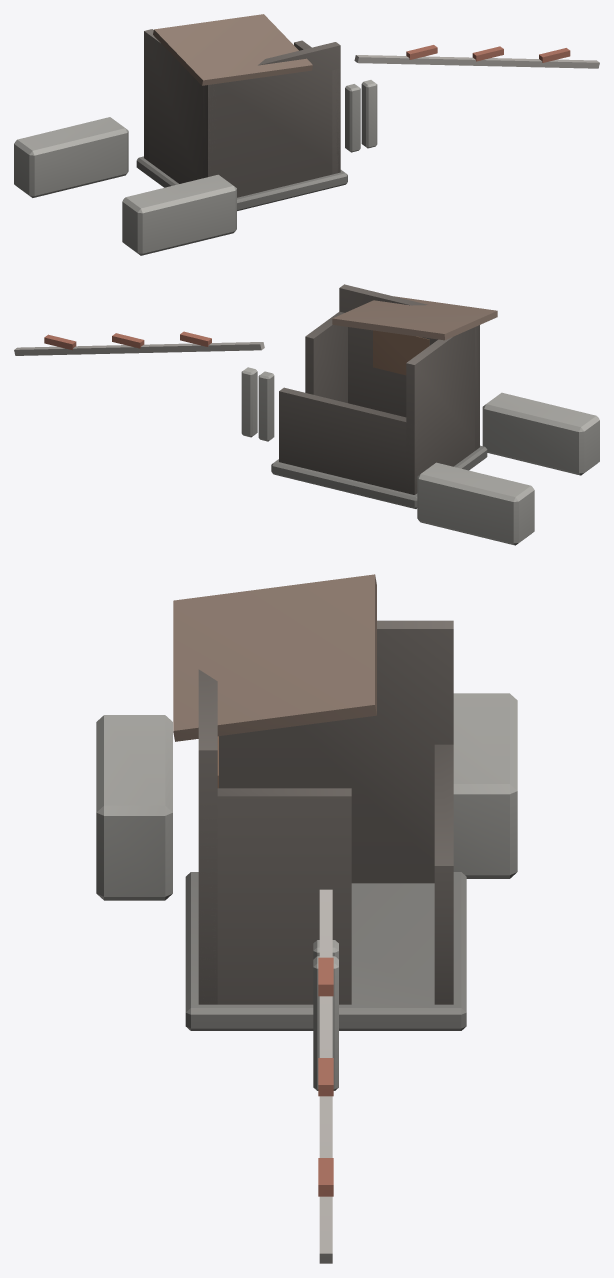
Rendered from mil_checkpoint.glb.
3 renders of one model, top to bottom at view 1: azimuth 30°, elevation 25°; view 2: azimuth 150°, elevation 25°; view 3: azimuth 270°, elevation 25°, orthographic. The views are drawn at different scales.
Visible parts, largest first — view 1: mil_checkpoint; view 2: mil_checkpoint; view 3: mil_checkpoint.
Part boxes in pixels (x1,y1,x2,y2): mil_checkpoint: (14,14,599,255); mil_checkpoint: (14,284,599,545); mil_checkpoint: (96,574,517,1263).
Size of the model in its own units: 9.74 by 2.72 by 3.3.
